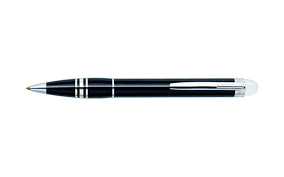qillqana: (20, 74, 259, 102)
